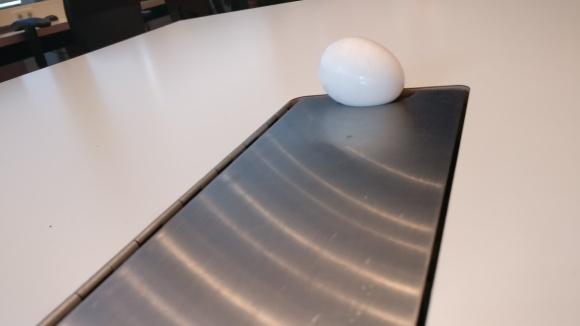egg: (317, 35, 406, 108)
